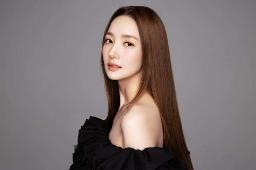face: (103, 18, 141, 78)
